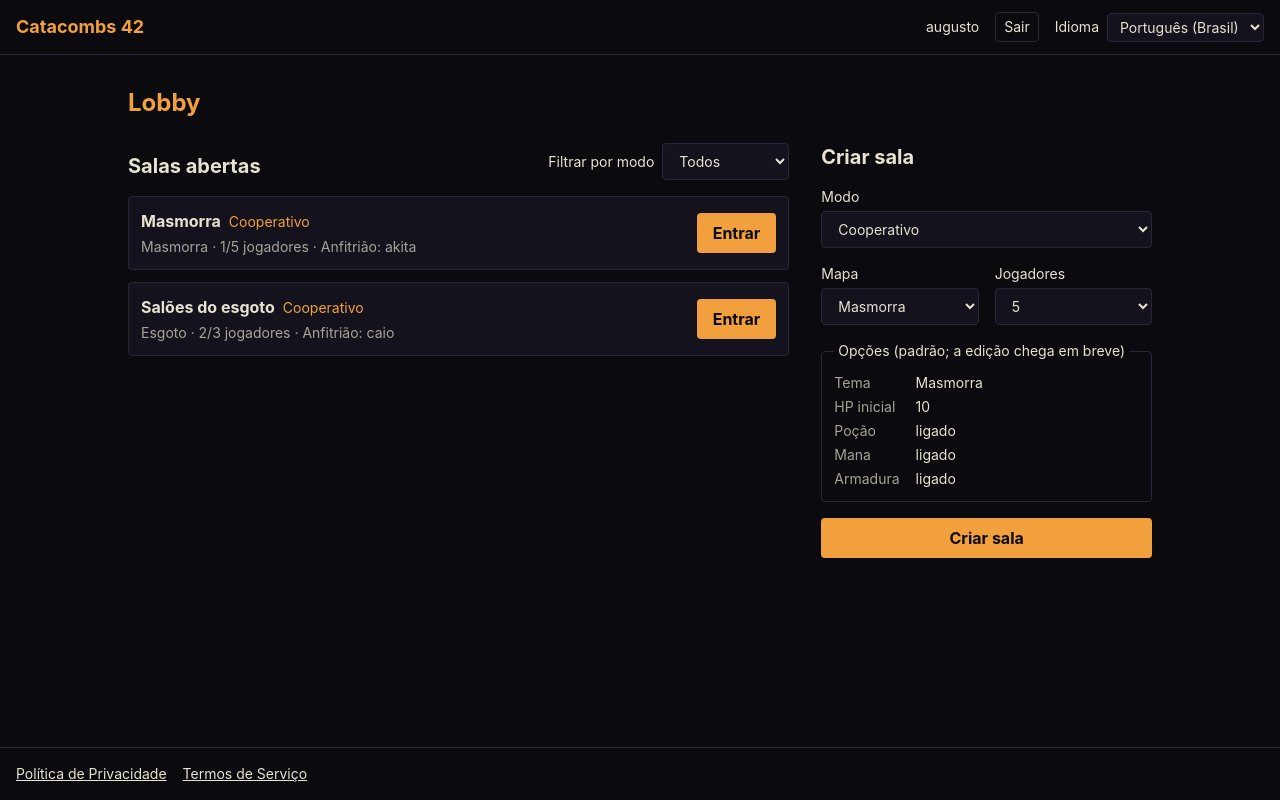
Test: cabeçalho › Sair: limpa a sessão, esconde o botão e volta para /
The image size is (1280, 800).
Click the button "Sair": (1017, 27) [995,12,1039,42]
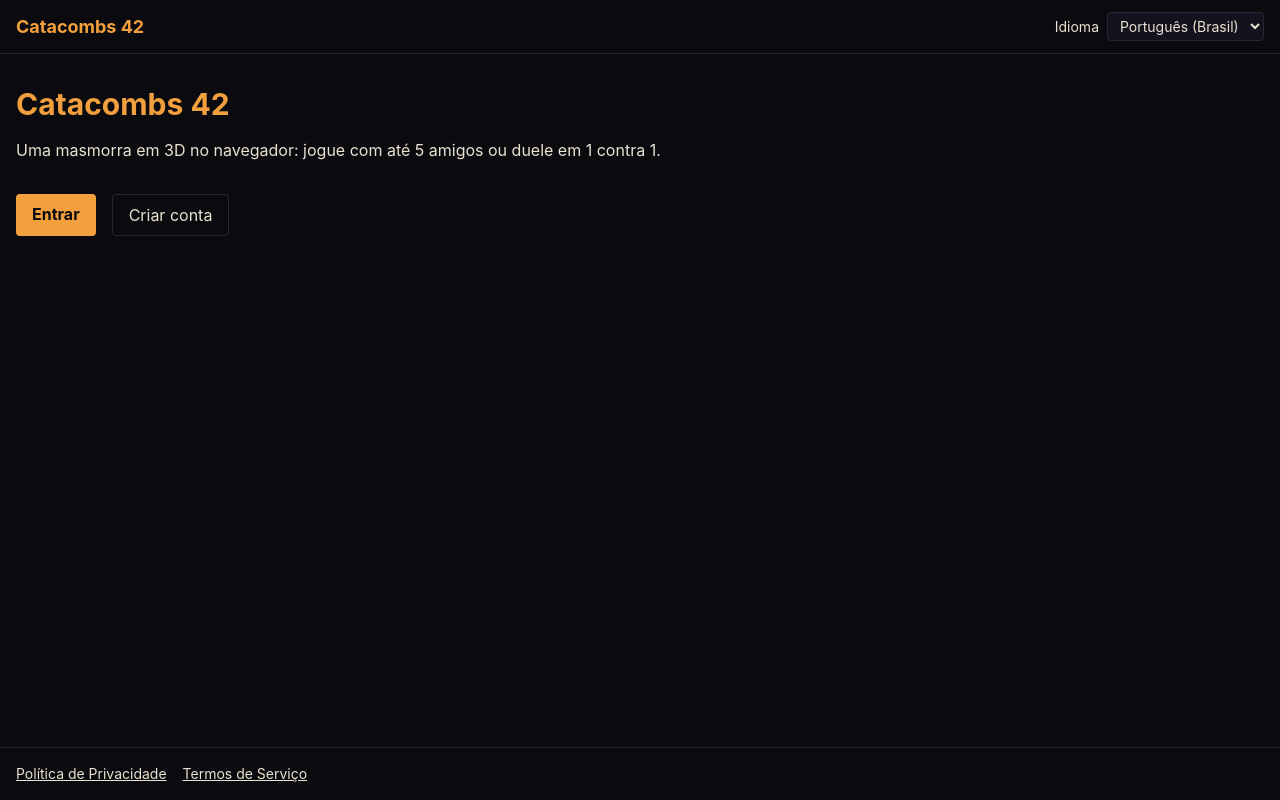
Result: the button "Sair" is gone
